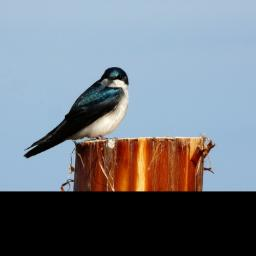Swallow: (22, 66, 130, 161)
